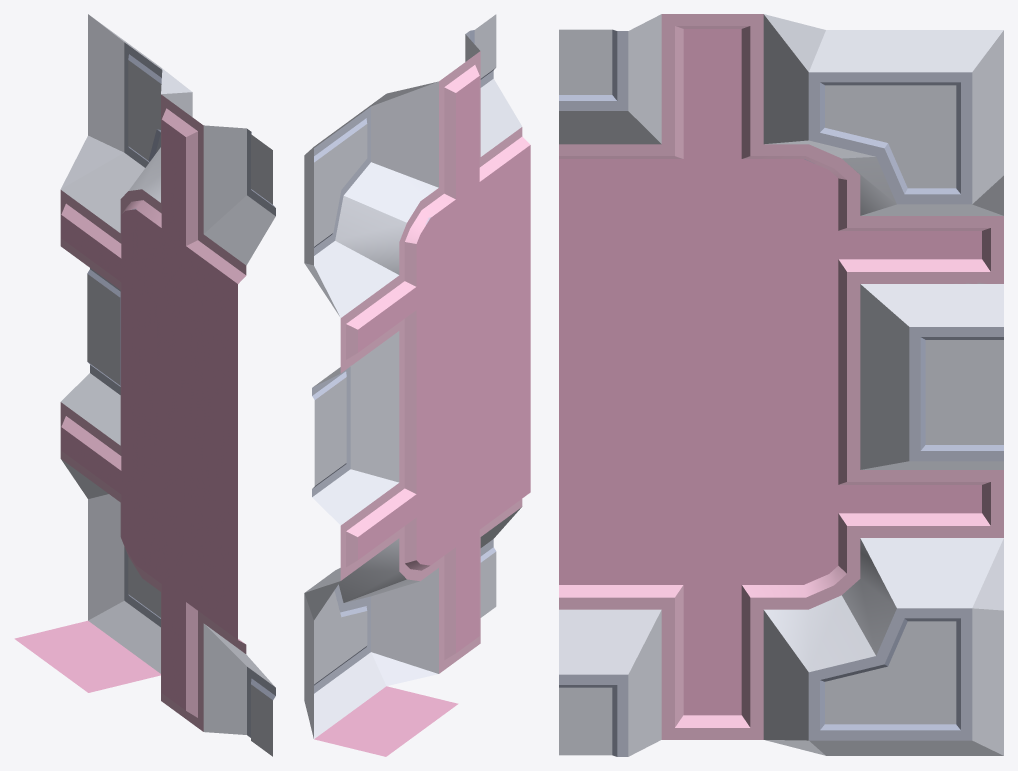
Rendered from WallPanel_EndRight.fbx.
The picture shows the model from 3 angles, left to right: view 1: azimuth 30°, elevation 25°; view 2: azimuth 150°, elevation 25°; view 3: azimuth 270°, elevation 25°; orthographic projection. The views are drawn at different scales.
Visible parts, largest first — view 1: EndPanelRight3; view 2: EndPanelRight3; view 3: EndPanelRight3.
Boxes of the visible parts, bbox=[...] form: EndPanelRight3: bbox=[14, 14, 275, 756]; EndPanelRight3: bbox=[304, 14, 530, 756]; EndPanelRight3: bbox=[559, 14, 1003, 756].
Size of the model in its own units: 60.19 by 360 by 200.
Materials: 1 (1 with a texture image).
